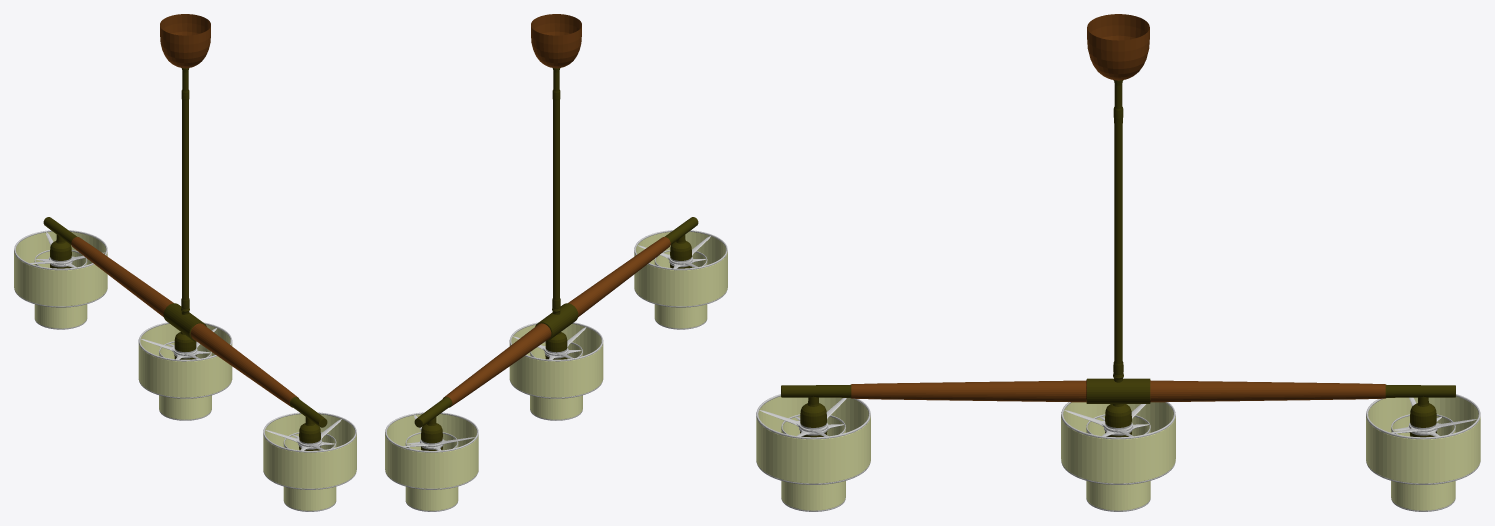
The model's file is saloon_lamp.obj.
3 renders of one model, left to right at view 1: azimuth 30°, elevation 25°; view 2: azimuth 150°, elevation 25°; view 3: azimuth 270°, elevation 25°, orthographic. The views are drawn at different scales.
Visible parts, largest first — view 1: Circle; view 2: Circle; view 3: Circle.
Part boxes in pixels (left/top/right/bottom): Circle: left=14, top=14, right=356, bottom=511; Circle: left=385, top=14, right=727, bottom=511; Circle: left=756, top=14, right=1480, bottom=511.
Size of the model in its own units: 0.1636 by 0.7416 by 1.03.
